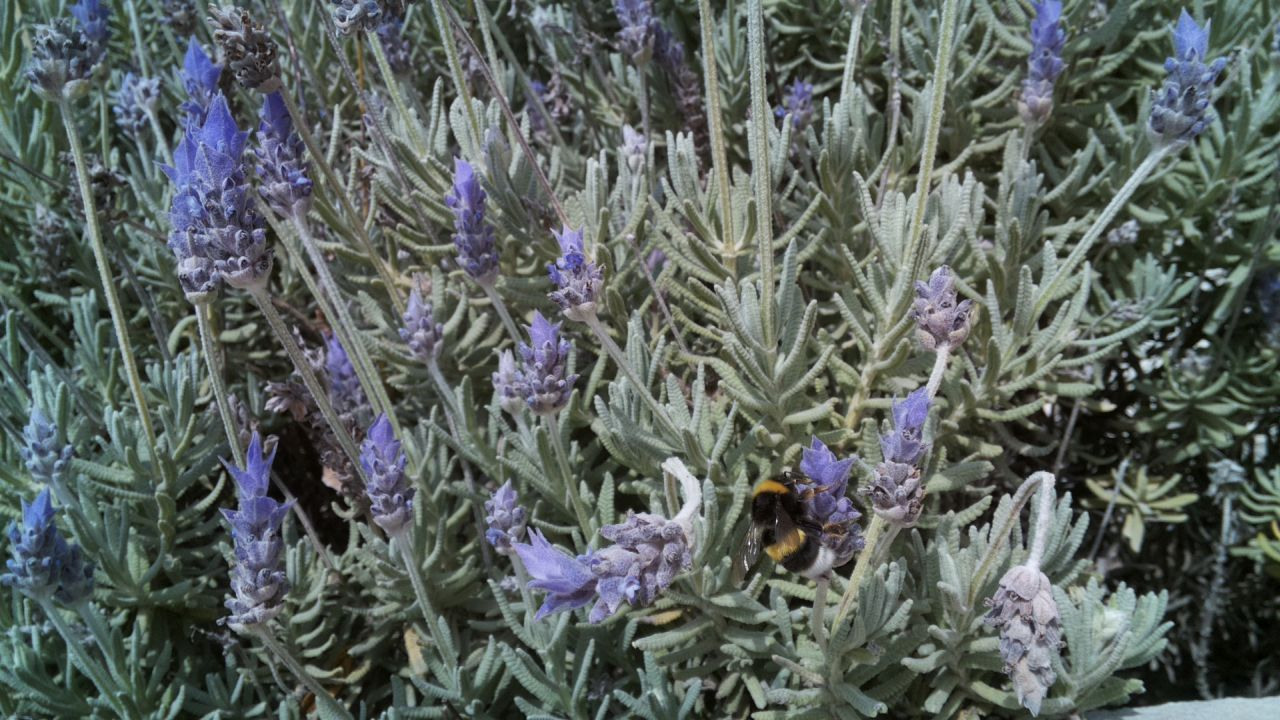Bombus terrestris: (710, 452, 846, 596)
